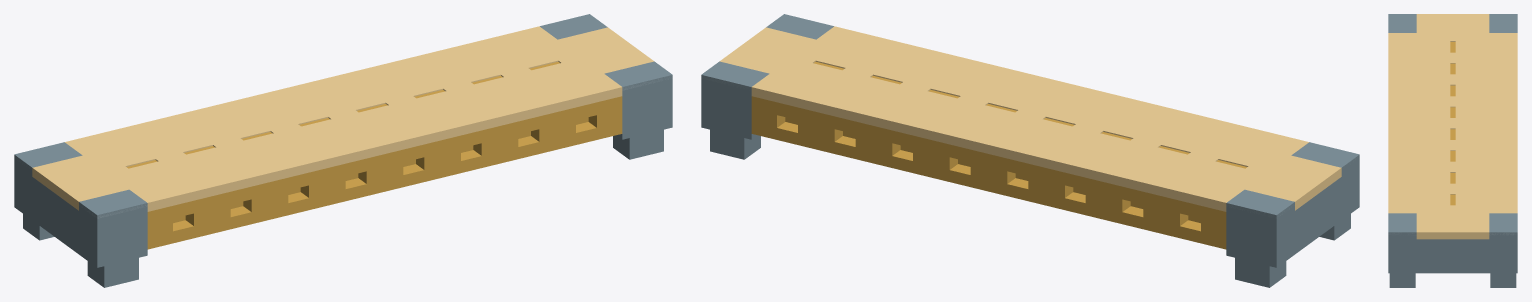
Rendered from Platform_Conveyor_8x2x1.fbx.
3 renders of one model, left to right at view 1: azimuth 30°, elevation 25°; view 2: azimuth 150°, elevation 25°; view 3: azimuth 270°, elevation 25°, orthographic. The views are drawn at different scales.
Visible parts, largest first — view 1: Top_Surface; view 2: Top_Surface; view 3: Top_Surface.
Boxes of the visible parts, x1,y1,x2,y2 form: Top_Surface: (14,14,672,287); Top_Surface: (701,14,1359,287); Top_Surface: (1388,14,1517,287).
Size of the model in its own units: 800 by 100 by 200.
